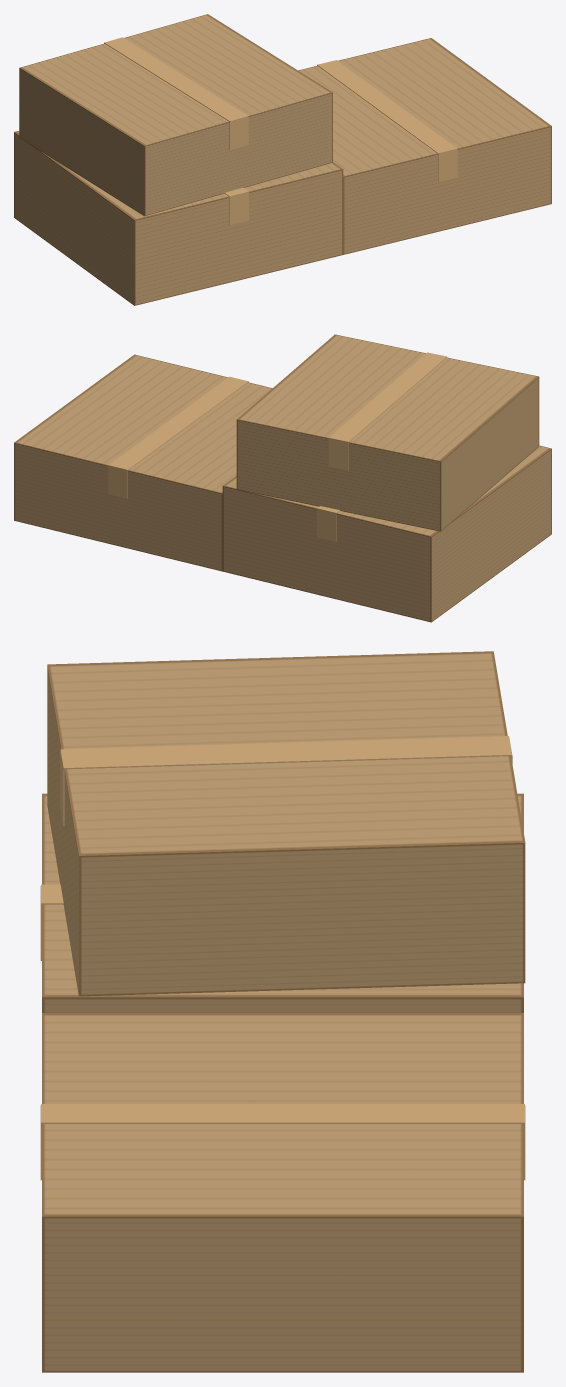
File: Prop_BoxStep.fbx
The picture shows the model from 3 angles, top to bottom: view 1: azimuth 30°, elevation 25°; view 2: azimuth 150°, elevation 25°; view 3: azimuth 270°, elevation 25°; orthographic projection. The views are drawn at different scales.
Visible parts, largest first — view 1: Prop_BoxStep; view 2: Prop_BoxStep; view 3: Prop_BoxStep.
Part boxes in pixels (left/top/right/bottom): Prop_BoxStep: left=14, top=14, right=551, bottom=305; Prop_BoxStep: left=14, top=334, right=551, bottom=622; Prop_BoxStep: left=40, top=651, right=525, bottom=1372.
Bounding box in the file's own units: 2.81 × 1 × 1.41.
1 material, 1 textured.
